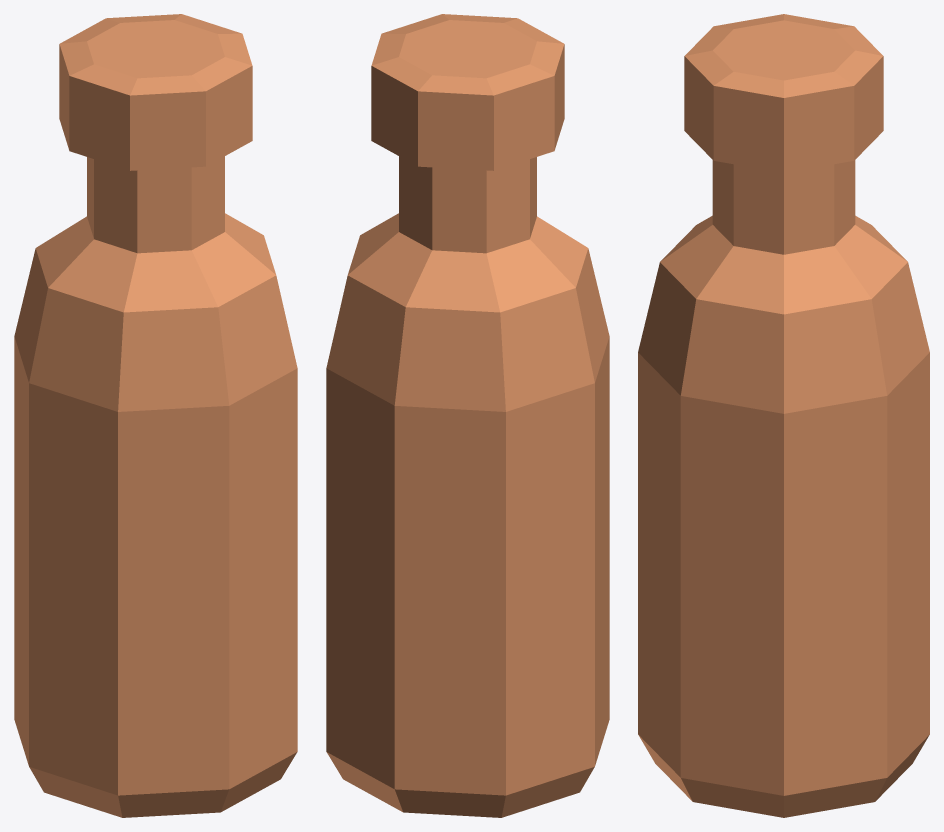
Rendered from Garrafa_Suco.fbx.
3 views of the same model, side by side, from view 1: azimuth 30°, elevation 25°; view 2: azimuth 150°, elevation 25°; view 3: azimuth 270°, elevation 25° (orthographic).
Parts seen in each view (by area): view 1: Cilindro.004; view 2: Cilindro.004; view 3: Cilindro.004.
Part boxes in pixels (<box>): Cilindro.004: <box>14,14,297,817</box>; Cilindro.004: <box>326,14,609,817</box>; Cilindro.004: <box>638,14,929,817</box>.
Bounding box in the file's own units: 11.55 × 31.11 × 11.55.
